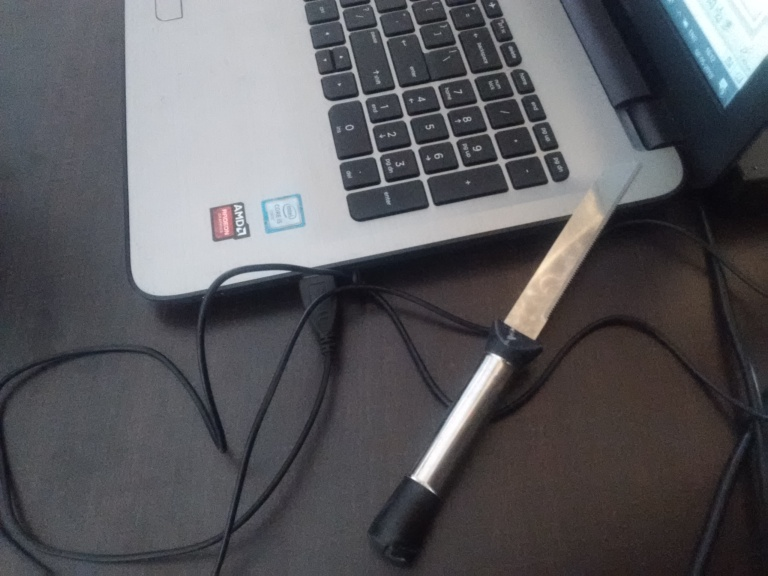knife: (366, 157, 641, 571)
